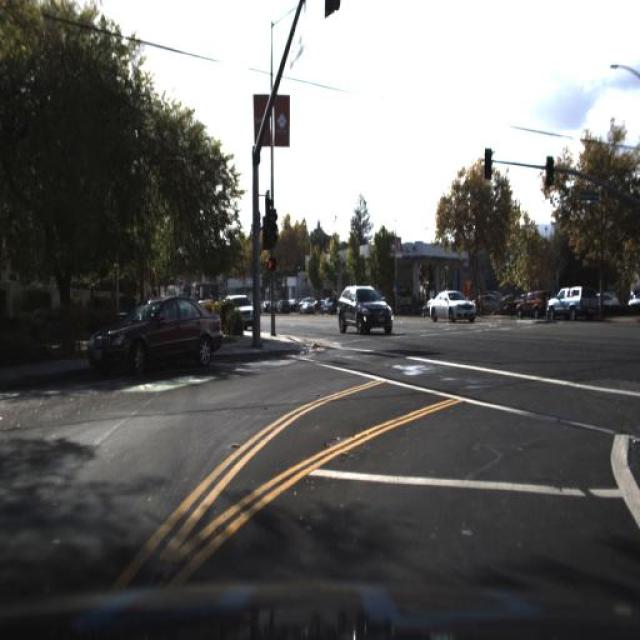car: (88, 294, 223, 386), (338, 286, 393, 336), (547, 282, 599, 322), (428, 288, 477, 324), (223, 295, 258, 327), (515, 289, 550, 320)
